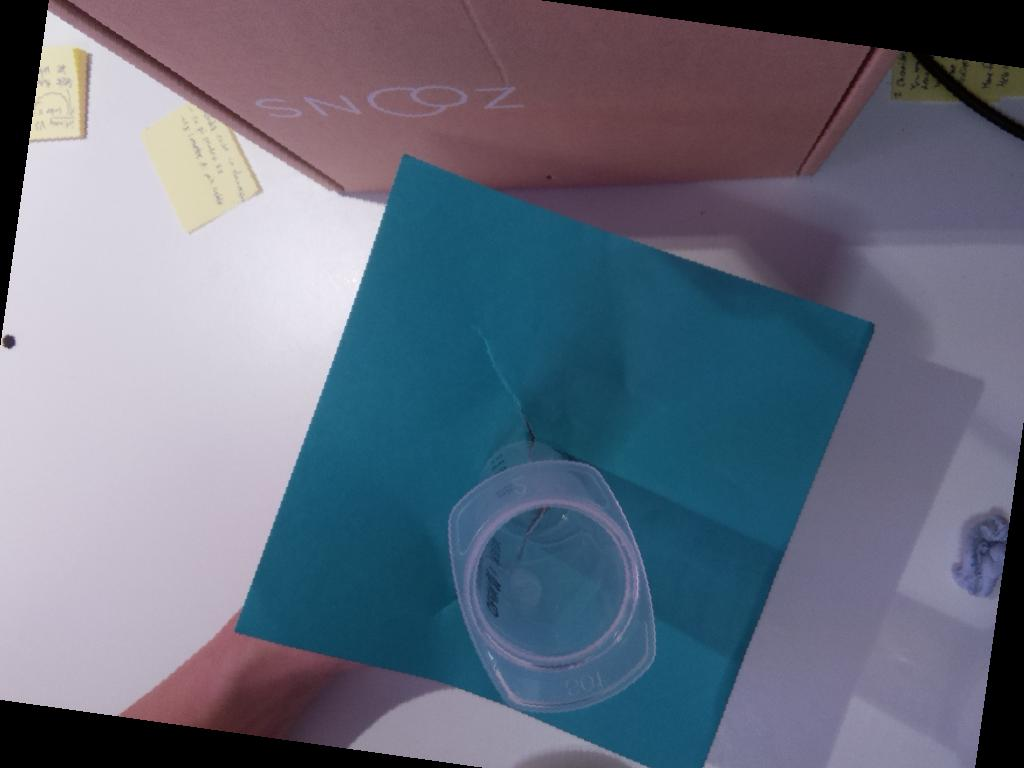clean: (444, 458, 661, 715)
